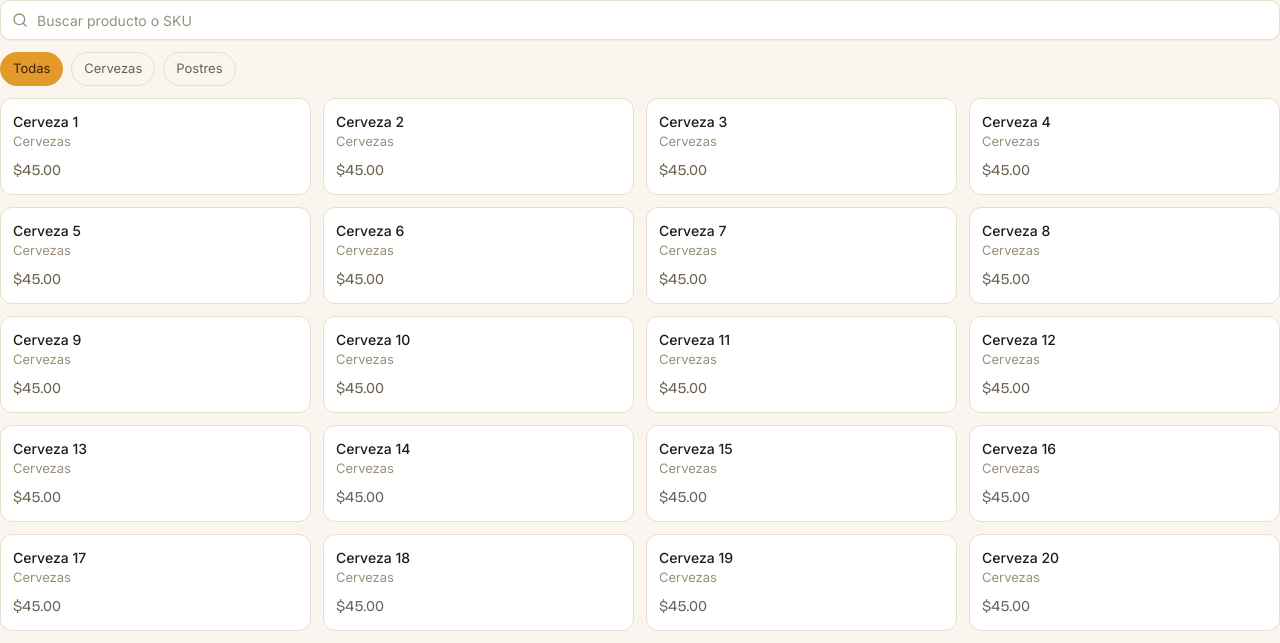
Scenario: ProductoPicker › una búsqueda sin resultados lo dice, en vez de fingir catálogo vacío
Type "sushi" into the field labelled "Buscar producto" at (640,20), box [0, 0, 1279, 40]
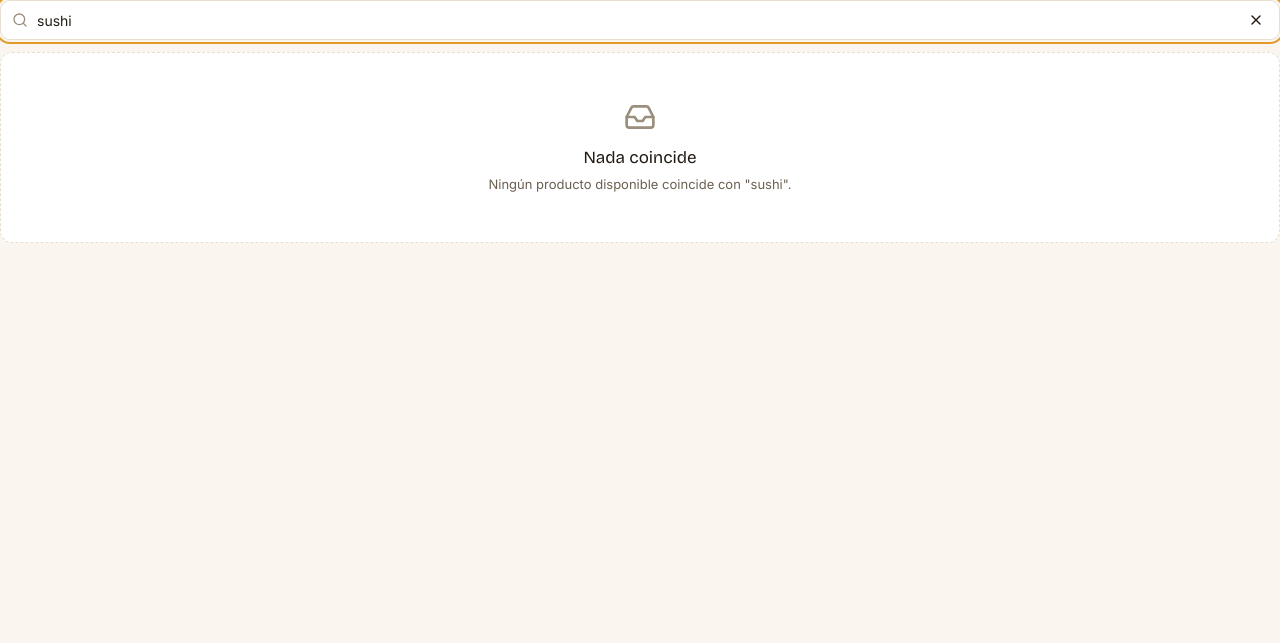
Check: the text "Nada coincide" is shown, box [584, 145, 697, 170]
Check: the text "Ningún producto disponible coincide con \"sushi\"." is shown, box [488, 174, 792, 194]
